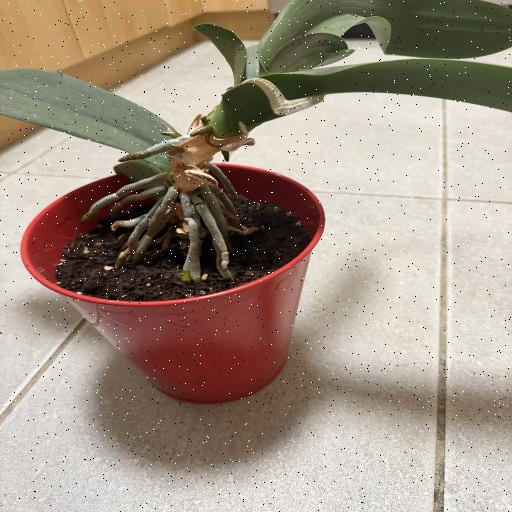Plant Pot: (19, 161, 326, 404)
